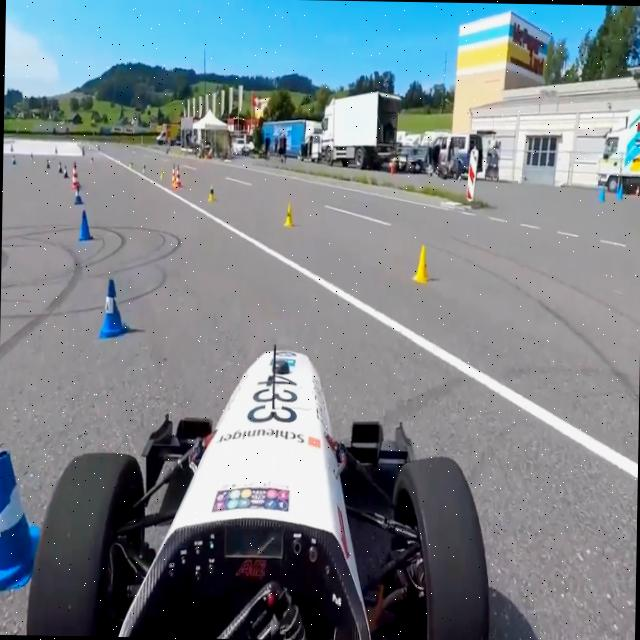blue_cone: (97, 276, 129, 340), (79, 210, 94, 243), (74, 184, 84, 206)
large_orange_cone: (71, 160, 80, 188), (174, 165, 182, 188), (170, 162, 177, 186)
yellow_cone: (412, 244, 432, 284), (283, 202, 296, 228), (207, 185, 215, 202)
